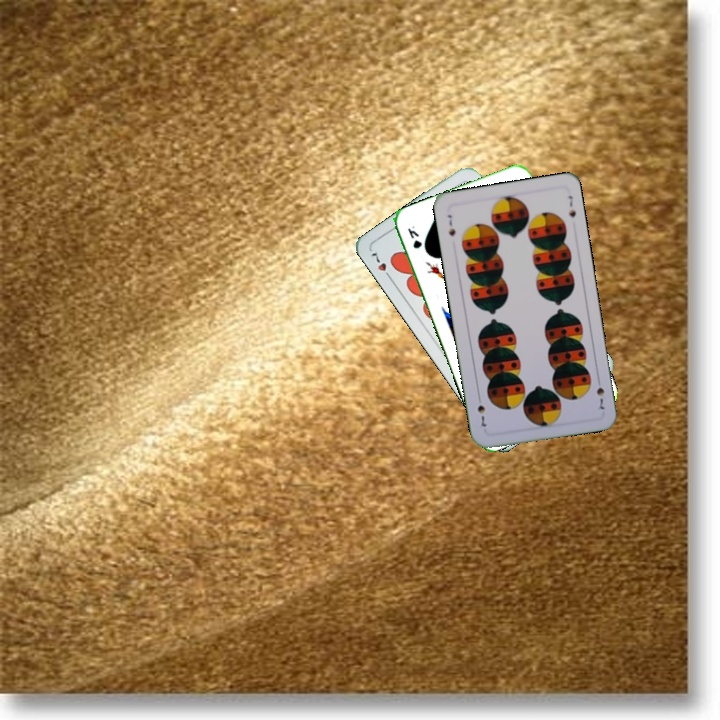GK: (403, 222, 425, 251)
H7: (367, 248, 395, 283)
S7: (592, 373, 607, 412), (443, 210, 458, 239)
